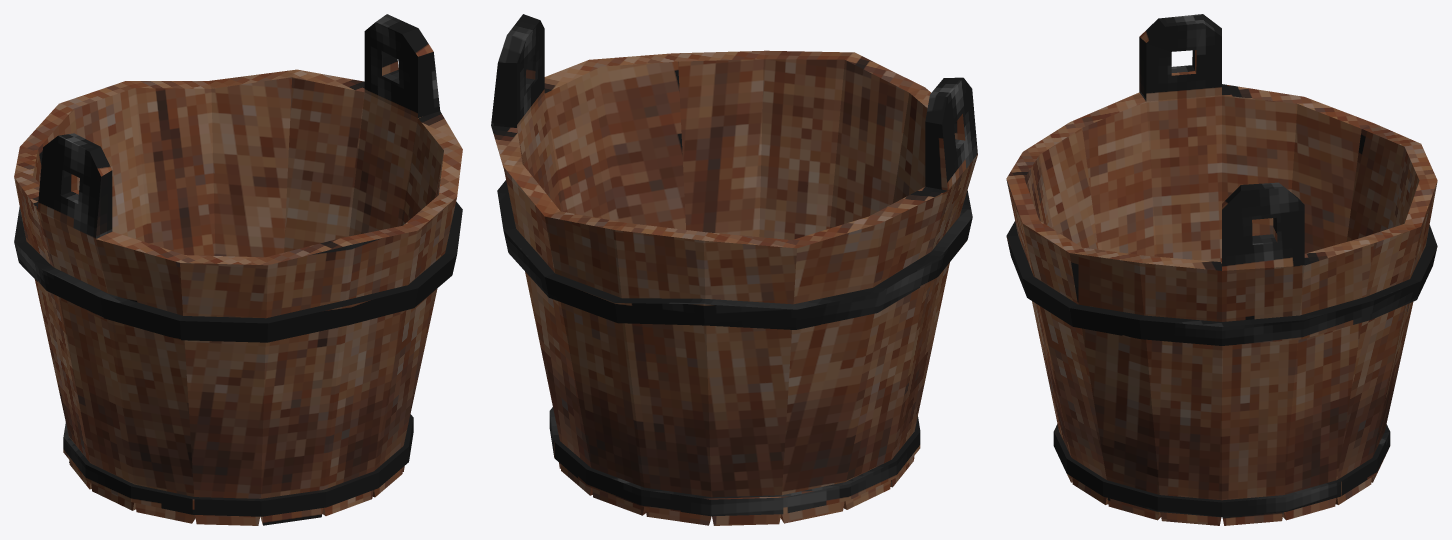
The model's file is bucket_wt.fbx.
The picture shows the model from 3 angles, left to right: view 1: azimuth 30°, elevation 25°; view 2: azimuth 150°, elevation 25°; view 3: azimuth 270°, elevation 25°; orthographic projection. The views are drawn at different scales.
Parts seen in each view (by area): view 1: Bucket; view 2: Bucket; view 3: Bucket.
Part boxes in pixels (x1=…): Bucket: x1=14, y1=14, x2=462, y2=525; Bucket: x1=491, y1=14, x2=977, y2=525; Bucket: x1=1006, y1=14, x2=1437, y2=525.
Bounding box in the file's own units: 297 × 262 × 289.
